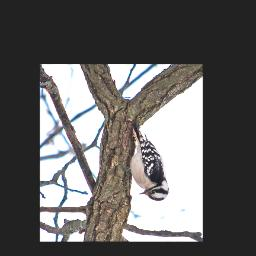Woodpecker: (120, 122, 169, 201)
